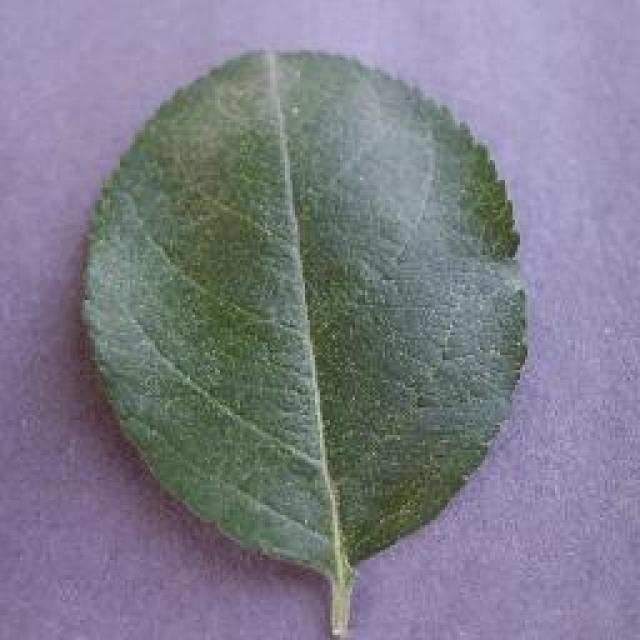apple healthy: (75, 45, 530, 637)
